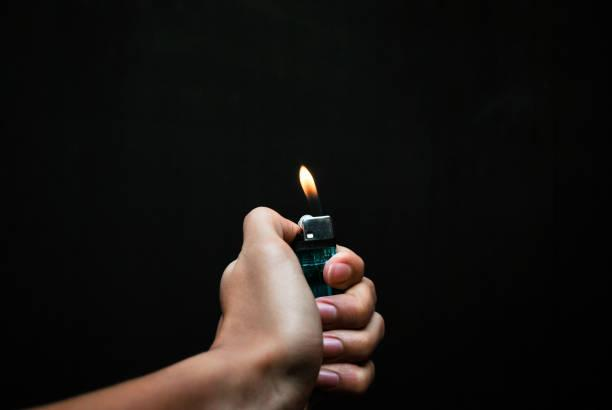Fire: (296, 160, 321, 212)
